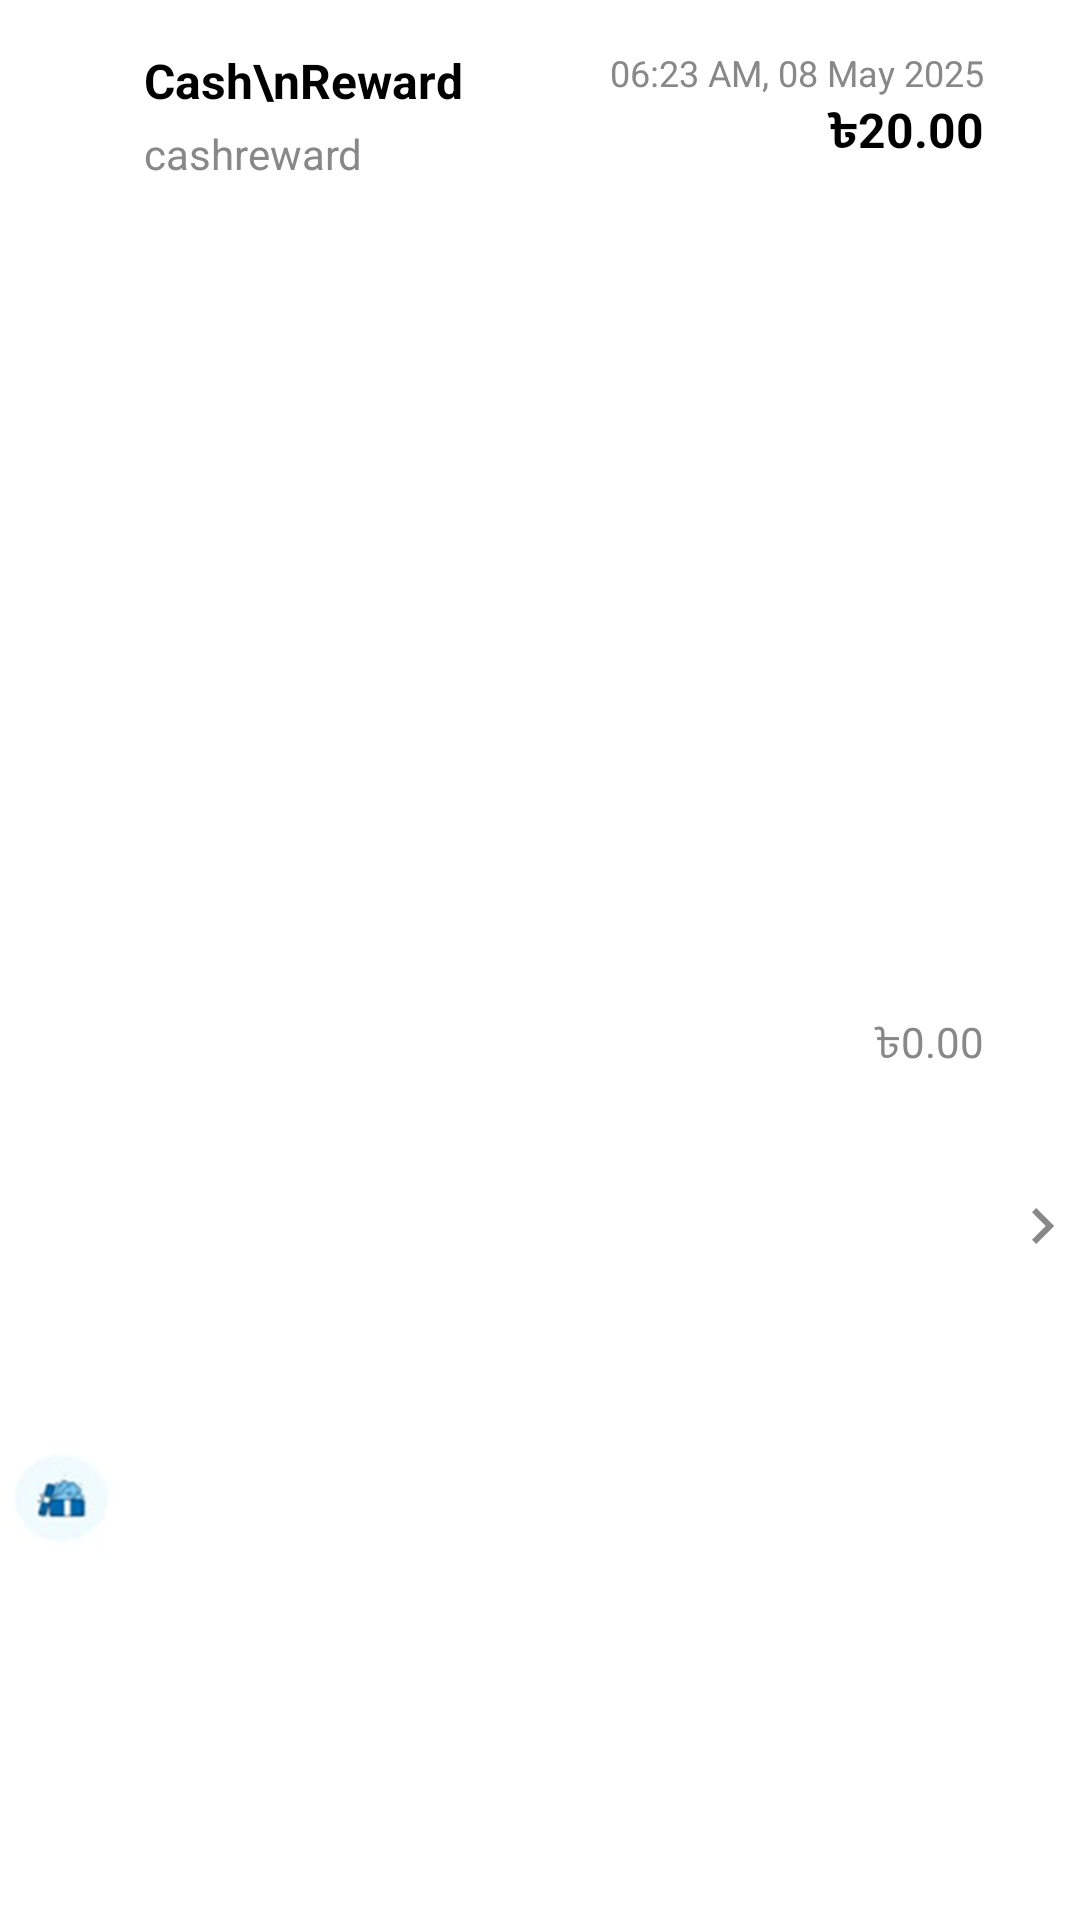

Icon click points for this 1080 x 1920 phone screenshot, format point (x, y):
Arrow: point (1043, 1226)
